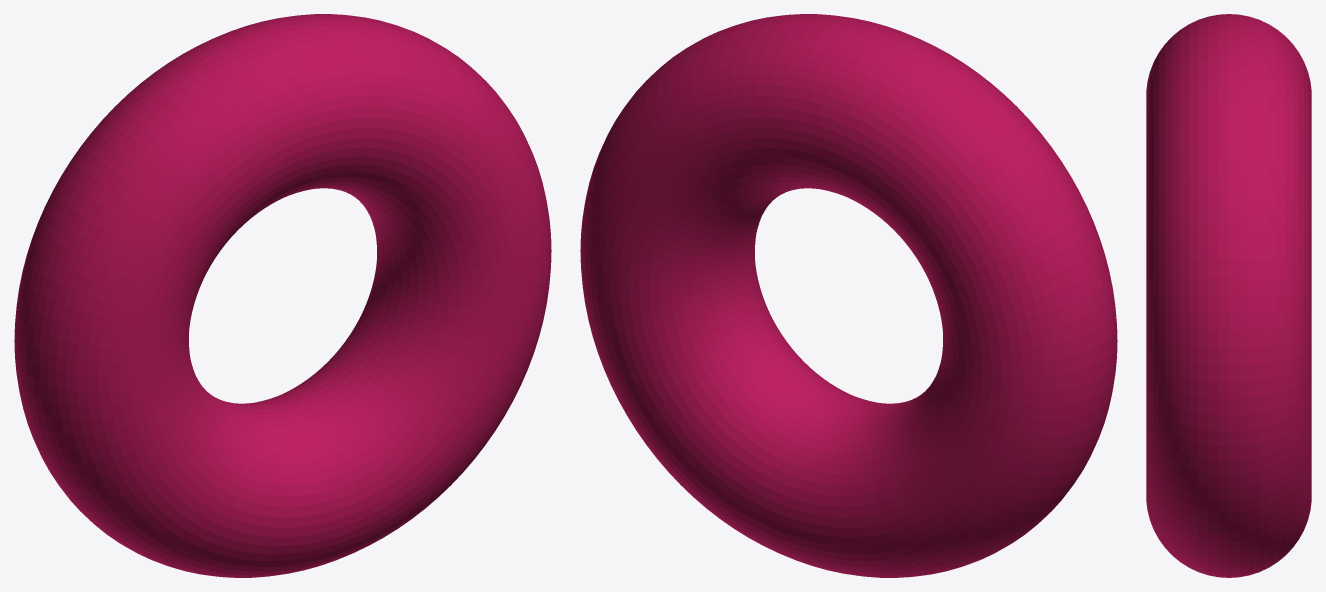
The picture shows the model from 3 angles, left to right: view 1: azimuth 30°, elevation 25°; view 2: azimuth 150°, elevation 25°; view 3: azimuth 270°, elevation 25°; orthographic projection. The views are drawn at different scales.
Parts seen in each view (by area): view 1: world; view 2: world; view 3: world.
Boxes of the visible parts, x1,y1,x2,y2 form: world: (14,14,551,577); world: (580,14,1117,577); world: (1146,14,1311,577).
Size of the model in its own units: 34 by 34 by 9.98.
